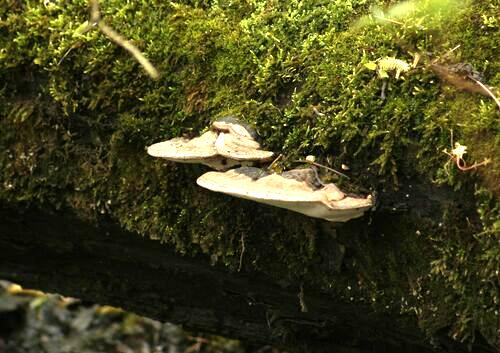Ganoderma - Fruit Body: (196, 170, 376, 224), (146, 121, 276, 168)
